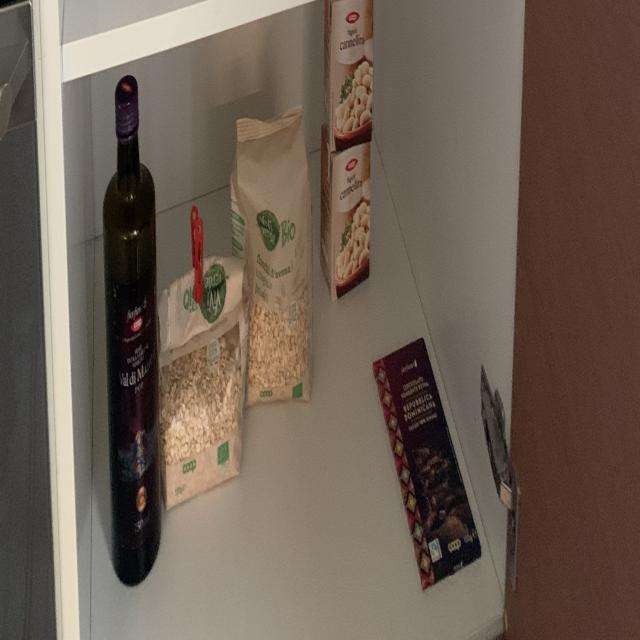beans: (320, 124, 370, 303), (323, 0, 376, 148)
chocolate: (372, 338, 479, 584)
oats: (230, 114, 312, 418), (162, 265, 245, 511)
oil: (105, 80, 163, 586)
